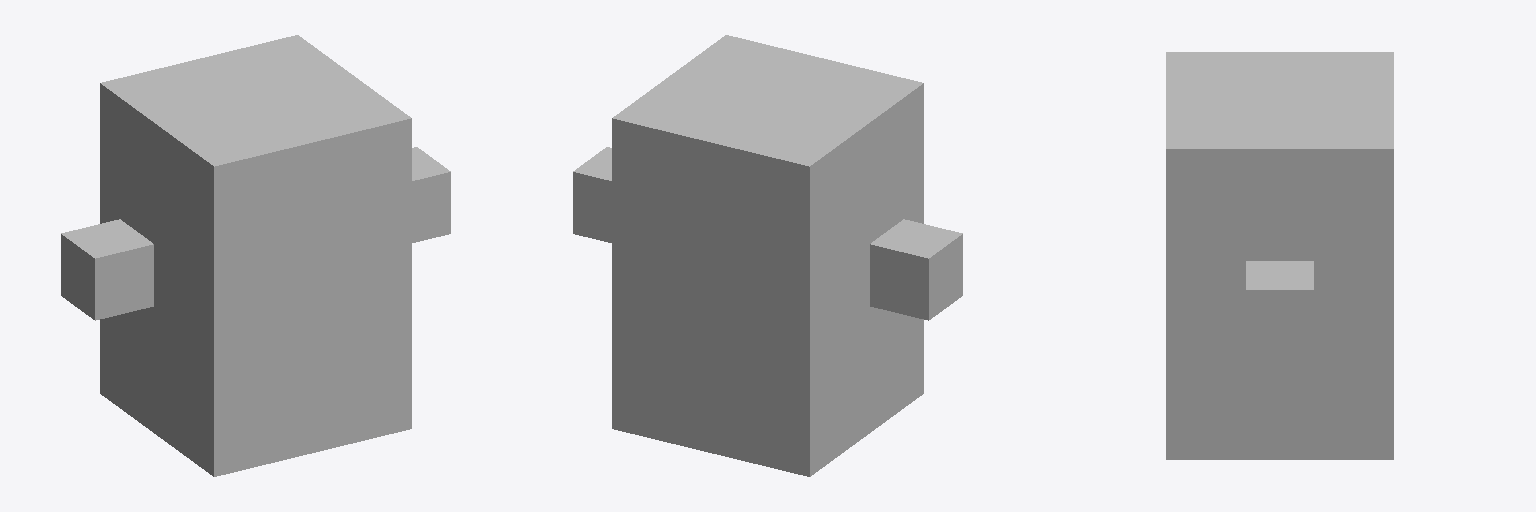
File: BoxMan_No3.obj
The picture shows the model from 3 angles: view 1: azimuth 30°, elevation 25°; view 2: azimuth 150°, elevation 25°; view 3: azimuth 270°, elevation 25°; orthographic projection.
Visible parts, largest first — view 1: 立方体.002; view 2: 立方体.002; view 3: 立方体.002.
Part boxes in pixels (x1,y1,x2,y2): 立方体.002: (61, 35, 450, 476); 立方体.002: (573, 35, 962, 476); 立方体.002: (1166, 52, 1393, 459).
Size of the model in its own units: 3.6 by 3 by 2.